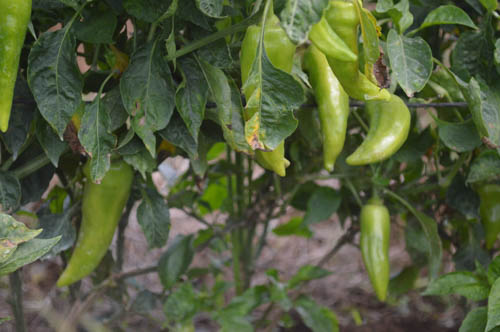ChiliPepper: (58, 161, 133, 280), (244, 25, 286, 178), (324, 2, 390, 98), (346, 93, 412, 170), (307, 49, 345, 174), (1, 1, 31, 140), (357, 206, 398, 294), (311, 25, 358, 58)
